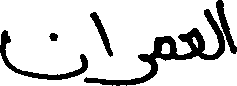ا: (90, 10, 114, 57), (219, 0, 235, 57)
ر: (125, 34, 156, 83)
ع: (185, 8, 204, 60)
ل: (204, 0, 221, 60)
م: (156, 34, 175, 74)
ن: (0, 28, 87, 84)
